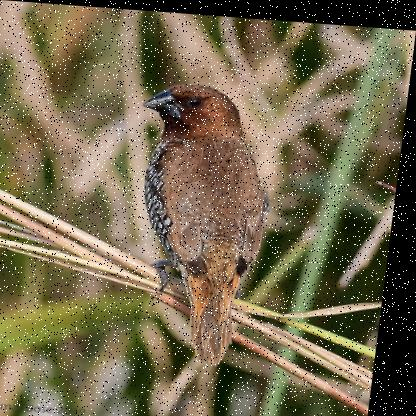Burung: (119, 78, 282, 362)
